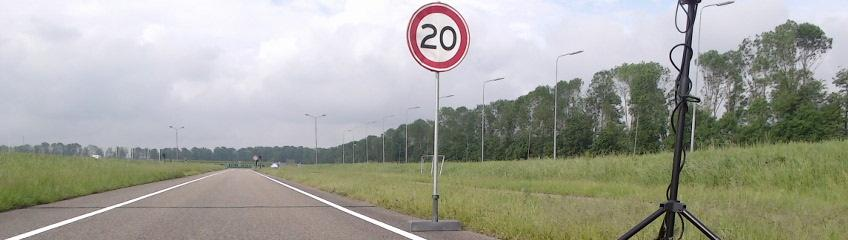Speed-limit-20km-h-: (406, 2, 470, 73)
